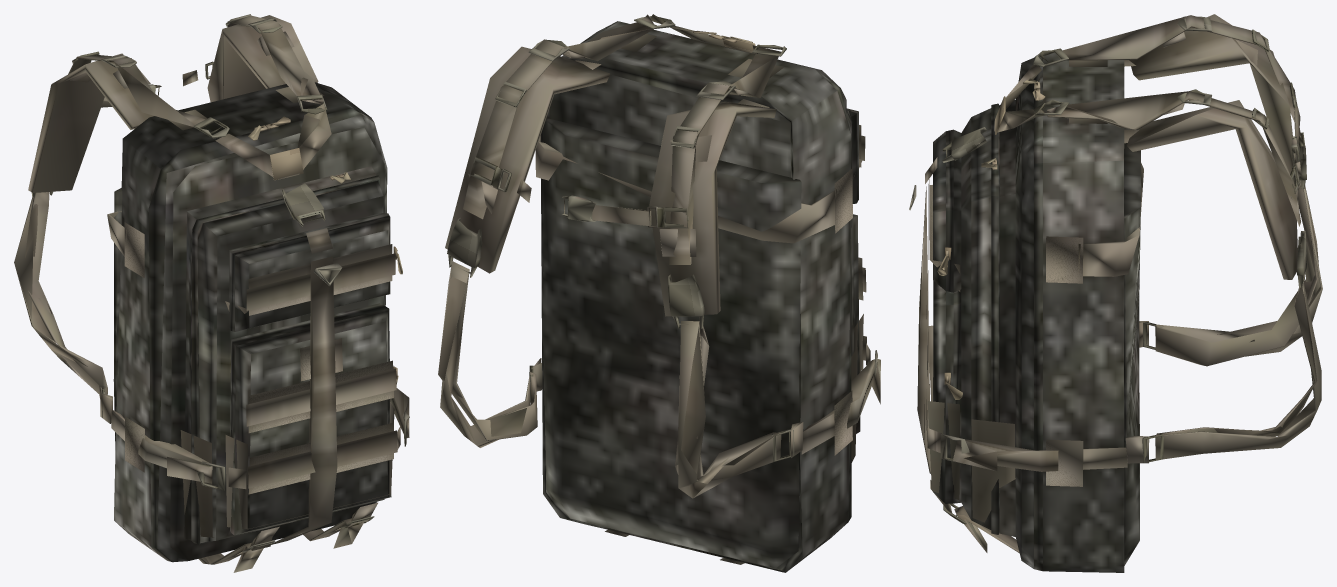
File: military_backpack_lod1.glb
3 renders of one model, left to right at view 1: azimuth 30°, elevation 25°; view 2: azimuth 150°, elevation 25°; view 3: azimuth 270°, elevation 25°, orthographic. The views are drawn at different scales.
Parts seen in each view (by area): view 1: military_backpack_0, military_backpack_5, military_backpack_1, military_backpack_2; view 2: military_backpack_0, military_backpack_5, military_backpack_1; view 3: military_backpack_0, military_backpack_5, military_backpack_1, military_backpack_4.
Part boxes in pixels (box(x1,y1,x2,y2)): military_backpack_0: box(113, 82, 391, 562); military_backpack_5: box(14, 15, 409, 572); military_backpack_1: box(31, 14, 409, 552); military_backpack_2: box(269, 148, 303, 180); military_backpack_0: box(540, 21, 860, 572); military_backpack_5: box(438, 14, 880, 564); military_backpack_1: box(447, 16, 877, 461); military_backpack_0: box(933, 52, 1140, 572); military_backpack_5: box(917, 14, 1322, 552); military_backpack_1: box(909, 16, 1306, 524); military_backpack_4: box(937, 78, 1045, 399).
Bounding box in the file's own units: 0.3121 × 0.558 × 0.4358.
6 materials, 6 textured.
